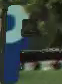Parking: (7, 2, 55, 83)
